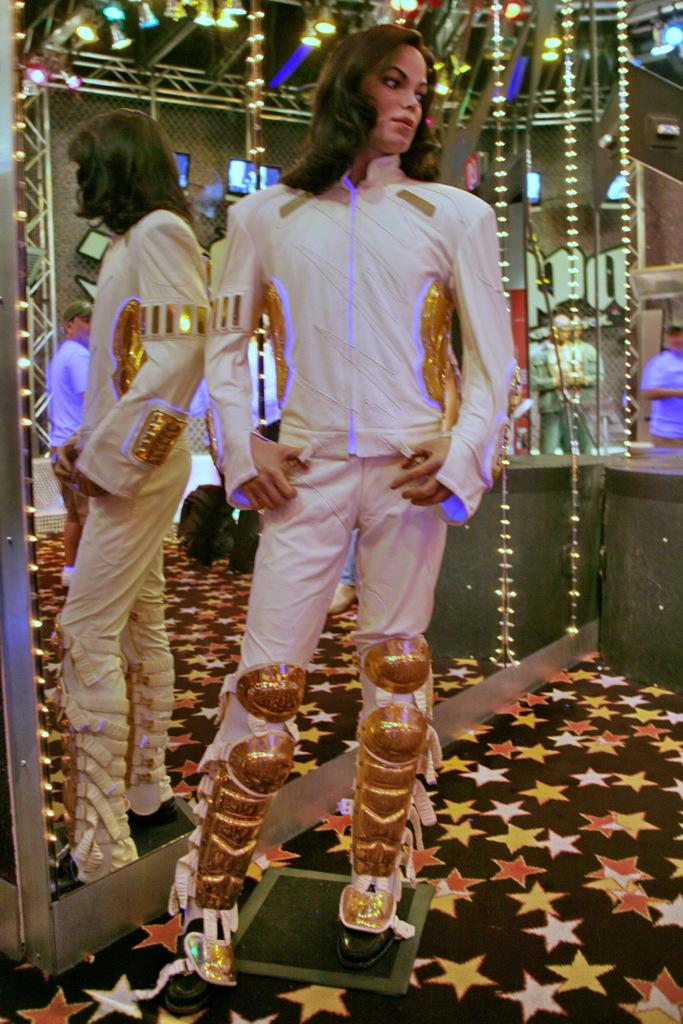Sem Máscara: (362, 45, 431, 155)
